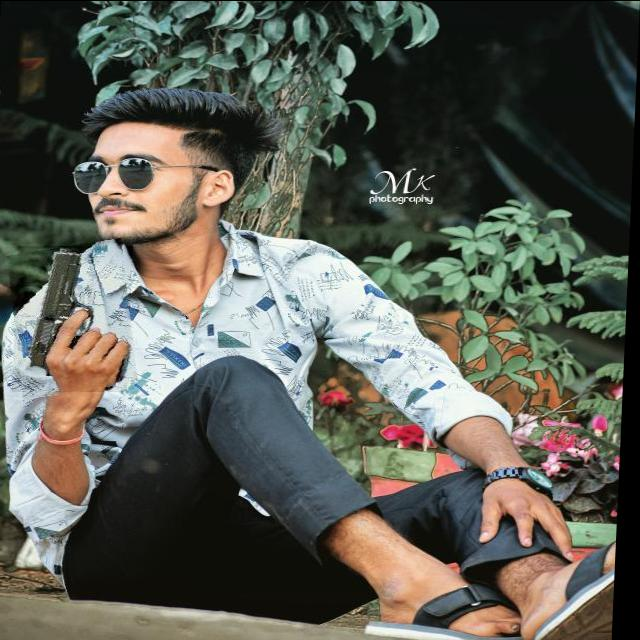handgun: (9, 242, 140, 396)
